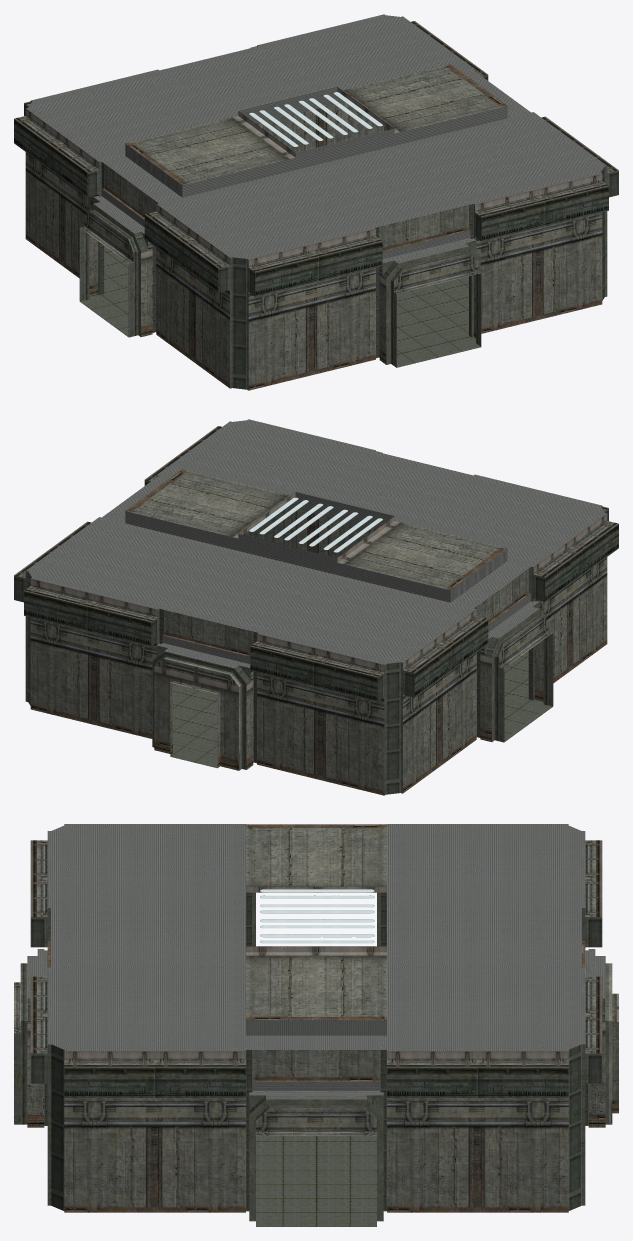
File: poi_all_impl_bunker_crimelord_retreat_s01_r13_elevatorroom01_mesh_r13.fbx
3 views of the same model, one above another, from view 1: azimuth 30°, elevation 25°; view 2: azimuth 150°, elevation 25°; view 3: azimuth 270°, elevation 25° (orthographic). The views are drawn at different scales.
Visible parts, largest first — view 1: mesh_node; view 2: mesh_node; view 3: mesh_node.
Boxes of the visible parts, box(x1,y1,x2,y2) form: mesh_node: box(14, 14, 618, 390); mesh_node: box(14, 419, 618, 795); mesh_node: box(14, 824, 618, 1226).
Size of the model in its own units: 18 by 6 by 18.
